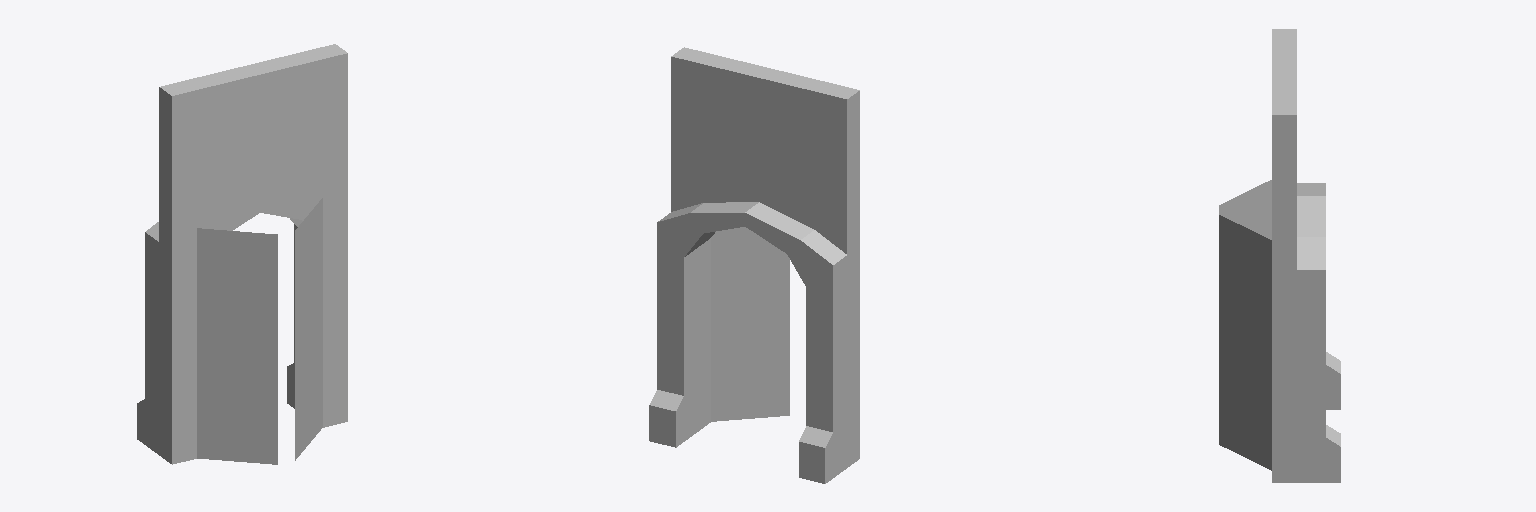
Rendered from vneshnjaja_arka_002.obj.
3 views of the same model, side by side, from view 1: azimuth 30°, elevation 25°; view 2: azimuth 150°, elevation 25°; view 3: azimuth 270°, elevation 25° (orthographic).
Parts seen in each view (by area): view 1: Внешняя_Арка.002; view 2: Внешняя_Арка.002; view 3: Внешняя_Арка.002.
Part boxes in pixels (x1,y1,x2,y2): Внешняя_Арка.002: (137,44,347,464); Внешняя_Арка.002: (649,47,859,483); Внешняя_Арка.002: (1219,29,1340,482).
Bounding box in the file's own units: 2 × 4 × 1.21.